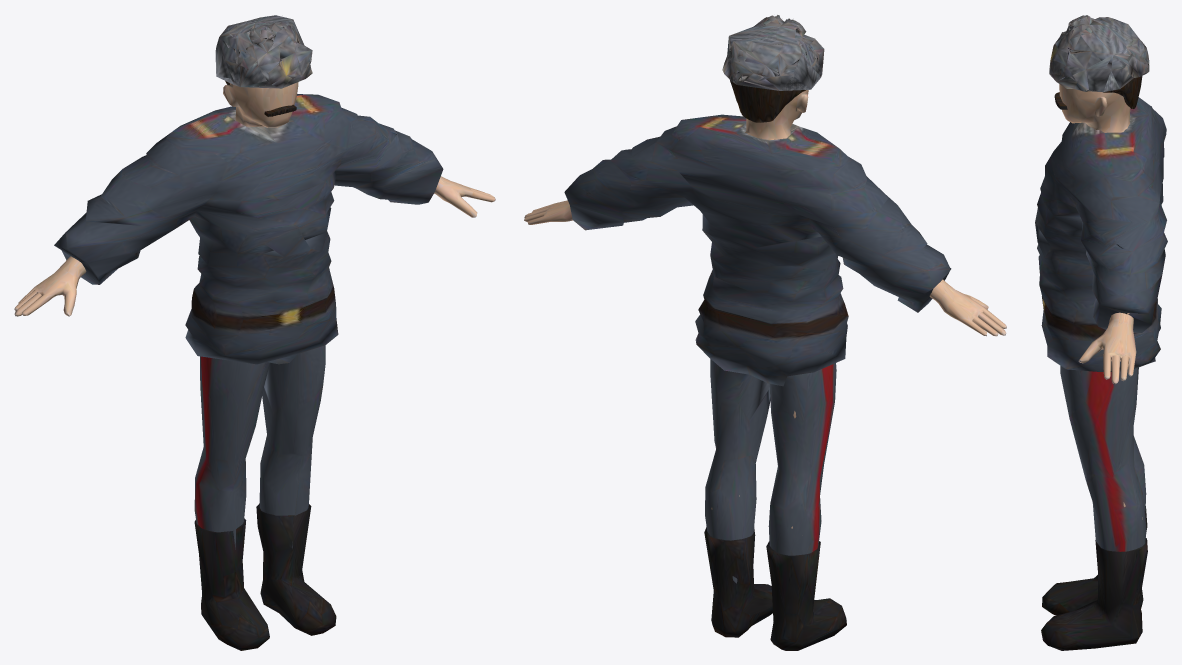
The model's file is npc_x_police_w2.glb.
3 renders of one model, left to right at view 1: azimuth 30°, elevation 25°; view 2: azimuth 150°, elevation 25°; view 3: azimuth 270°, elevation 25°, orthographic.
Visible parts, largest first — view 1: Human; view 2: Human; view 3: Human.
Boxes of the visible parts, bbox=[...] form: Human: bbox=[14, 15, 495, 650]; Human: bbox=[524, 15, 1006, 650]; Human: bbox=[1035, 15, 1167, 650].
Bounding box in the file's own units: 1.54 × 1.86 × 0.3683.
Materials: 1 (1 with a texture image).
